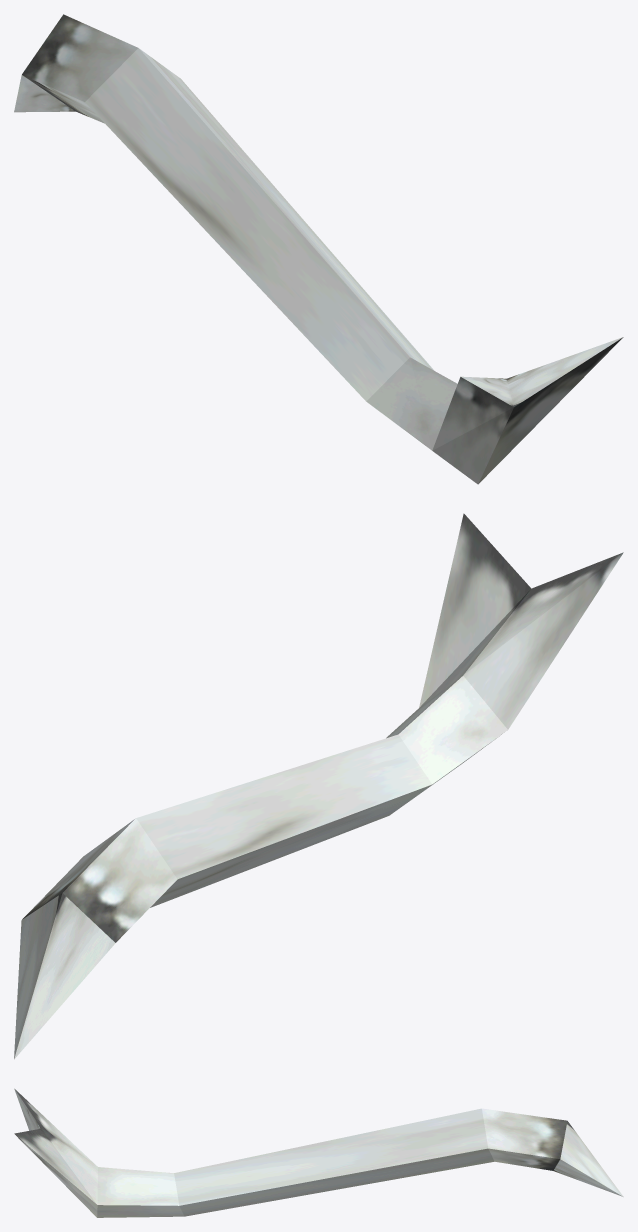
Rendered from brecheisen_23_aug_2796.glb.
3 renders of one model, top to bottom at view 1: azimuth 30°, elevation 25°; view 2: azimuth 150°, elevation 25°; view 3: azimuth 270°, elevation 25°, orthographic. The views are drawn at different scales.
Visible parts, largest first — view 1: pCylinderShape1; view 2: pCylinderShape1; view 3: pCylinderShape1.
Boxes of the visible parts, x1=… form: pCylinderShape1: x1=14, y1=14, x2=623, y2=484; pCylinderShape1: x1=14, y1=513, x2=623, y2=1059; pCylinderShape1: x1=14, y1=1088, x2=623, y2=1217.
Bounding box in the file's own units: 0.0187 × 0.0209 × 0.1061.
1 material, 1 textured.
